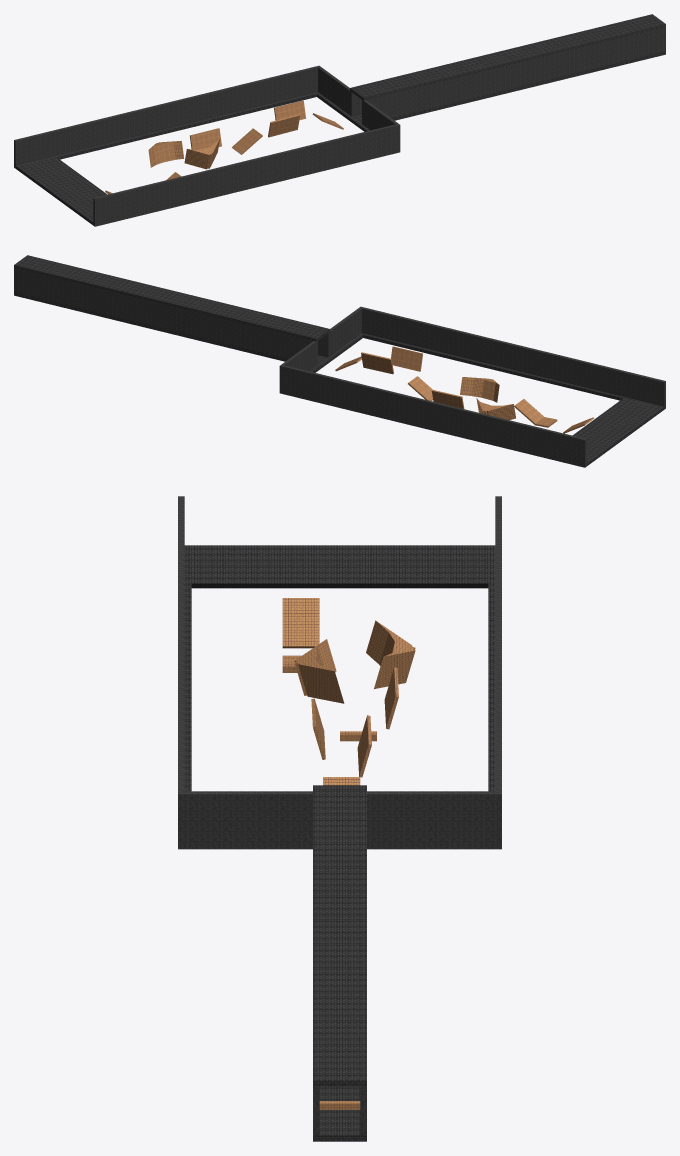
File: starter.obj
The picture shows the model from 3 angles, top to bottom: view 1: azimuth 30°, elevation 25°; view 2: azimuth 150°, elevation 25°; view 3: azimuth 270°, elevation 25°; orthographic projection. The views are drawn at different scales.
Visible parts, largest first — view 1: entity0_brush10, entity0_brush11, entity0_brush2, entity0_brush3, entity0_brush18, entity0_brush16, entity0_brush0, entity0_brush12, entity0_brush13, entity0_brush22, entity0_brush20, entity0_brush19 (+3 smaller); view 2: entity0_brush11, entity0_brush10, entity0_brush1, entity0_brush3, entity0_brush18, entity0_brush14, entity0_brush0, entity0_brush13, entity0_brush12, entity0_brush20, entity0_brush19, entity0_brush22 (+4 smaller); view 3: entity0_brush3, entity0_brush18, entity0_brush12, entity0_brush13, entity0_brush10, entity0_brush11, entity0_brush0, entity0_brush14, entity0_brush16, entity0_brush32, entity0_brush23.
Part boxes in pixels (<box>): entity0_brush10: <box>93,124,397,226</box>; entity0_brush11: <box>14,66,317,168</box>; entity0_brush2: <box>362,27,665,124</box>; entity0_brush3: <box>350,14,665,100</box>; entity0_brush18: <box>17,157,107,223</box>; entity0_brush16: <box>15,92,319,169</box>; entity0_brush0: <box>352,51,665,123</box>; entity0_brush12: <box>317,65,349,114</box>; entity0_brush13: <box>363,100,400,152</box>; entity0_brush22: <box>189,128,221,149</box>; entity0_brush20: <box>268,114,300,137</box>; entity0_brush19: <box>274,100,305,120</box>; entity0_brush11: <box>282,365,586,467</box>; entity0_brush10: <box>362,307,665,409</box>; entity0_brush1: <box>14,268,317,365</box>; entity0_brush3: <box>14,255,329,341</box>; entity0_brush18: <box>572,398,662,464</box>; entity0_brush14: <box>360,333,664,410</box>; entity0_brush0: <box>14,292,327,364</box>; entity0_brush13: <box>330,306,362,355</box>; entity0_brush12: <box>279,341,316,393</box>; entity0_brush20: <box>391,346,422,371</box>; entity0_brush19: <box>361,352,393,374</box>; entity0_brush22: <box>431,390,464,408</box>; entity0_brush3: <box>313,785,366,1086</box>; entity0_brush18: <box>191,545,488,588</box>; entity0_brush12: <box>367,791,501,849</box>; entity0_brush13: <box>178,791,312,849</box>; entity0_brush10: <box>178,496,184,791</box>; entity0_brush11: <box>495,496,501,791</box>; entity0_brush0: <box>313,1086,366,1141</box>; entity0_brush14: <box>184,545,191,791</box>; entity0_brush16: <box>488,545,495,791</box>; entity0_brush32: <box>282,598,319,648</box>; entity0_brush23: <box>298,658,344,703</box>.
Size of the model in its own units: 6624 by 486 by 1536.
Materials: 3 (3 with a texture image).
